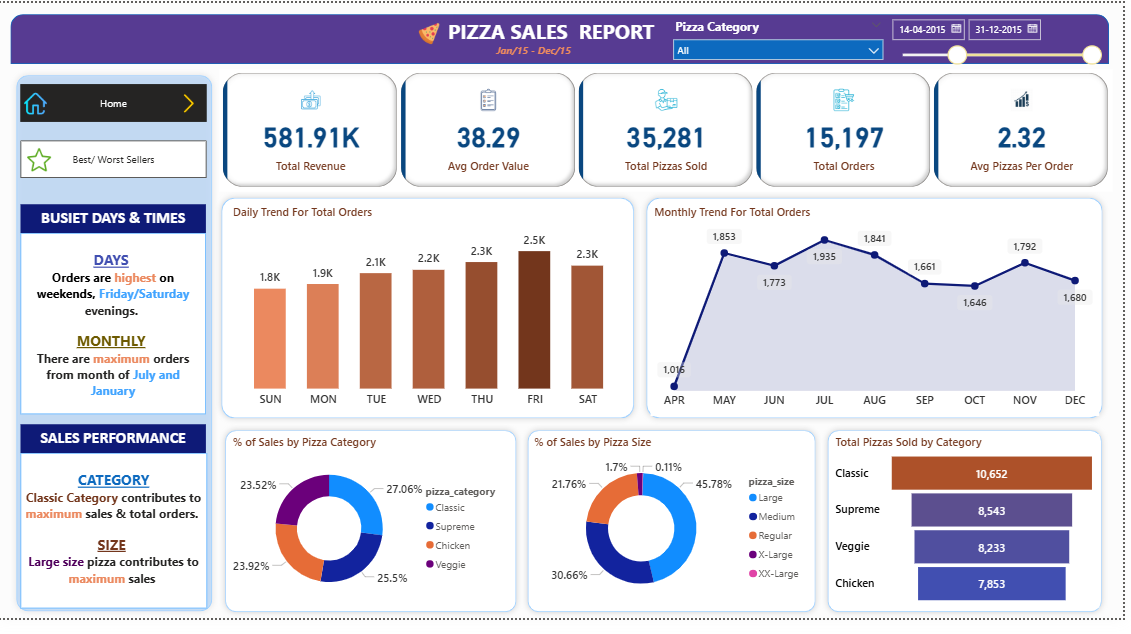

This screenshot's page, from the dashboard's own definition file:
{"tool":"powerbi","page":{"name":"Home","canvas":[1500,820],"ordinal":0},"visuals":[{"type":"shape","box":[17.1,88.6,277.1,731.4],"z":0},{"type":"cardVisual","fields":{"Data":["pizza_sales.Total Revenue","pizza_sales.Avg Order Value","pizza_sales.Total Pizzas Sold","pizza_sales.Total Orders","pizza_sales.Avg Pizzas Per Order"]},"box":[294.3,88.6,1191.4,162.9],"z":1000},{"type":"shape","box":[16.7,15,1465,66.7],"z":2000},{"type":"textbox","box":[575,15,325,51.7],"z":3000},{"type":"textbox","box":[648.3,48.3,131.7,40],"z":4000},{"type":"image","box":[551.7,21.7,46.7,38.3],"z":5000},{"type":"shape","box":[290,252,566,310],"z":6000},{"type":"columnChart","title":"Daily Trend For Total Orders","fields":{"Category":["pizza_sales.Order Day"],"Y":["pizza_sales.Total Orders"]},"box":[308,268,534,280],"z":7000},{"type":"shape","box":[856,252,624,310],"z":8000},{"type":"areaChart","title":"Monthly Trend For Total Orders","fields":{"Y":["pizza_sales.Total Orders"],"Category":["pizza_sales.Order Month"]},"box":[870,268,598,282],"z":9000},{"type":"shape","box":[294.3,561.4,404.3,258.6],"z":10000},{"type":"shape","box":[698.6,561.4,400,258.6],"z":11000},{"type":"shape","box":[1098.6,561.4,381.4,258.6],"z":12000},{"type":"donutChart","title":"% of Sales by Pizza Category","fields":{"Category":["pizza_sales.pizza_category"],"Y":["pizza_sales.Total Revenue"]},"box":[308.6,575.7,375.7,231.4],"z":13000},{"type":"donutChart","title":"% of Sales by Pizza Size","fields":{"Y":["pizza_sales.Total Revenue"],"Category":["pizza_sales.pizza_size"]},"box":[710,575.7,375.7,231.4],"z":14000},{"type":"funnel","title":"Total Pizzas Sold by Category","fields":{"Category":["pizza_sales.pizza_category"],"Y":["pizza_sales.Total Pizzas Sold"]},"box":[1111.4,575.7,357.1,231.4],"z":15000},{"type":"textbox","box":[30,268.6,247.1,38.6],"z":16000},{"type":"textbox","box":[30,307.1,247.1,241.4],"z":17000},{"type":"textbox","box":[30,561.4,247.1,38.6],"z":18000},{"type":"textbox","box":[30,600,248.6,207.1],"z":19000},{"type":"slicer","fields":{"Values":["pizza_sales.pizza_category"]},"box":[890,15.7,300,61.4],"z":20000},{"type":"slicer","fields":{"Values":["pizza_sales.order_date"]},"box":[1180,11.4,300,81.4],"z":21000},{"type":"pageNavigator","box":[30,108.6,248.6,50],"z":22000},{"type":"pageNavigator","box":[30,182.9,248.6,50],"z":22001},{"type":"image","box":[231.4,117.1,45.7,34.3],"z":22002},{"type":"image","box":[30,111.4,40,44.3],"z":22003},{"type":"image","box":[30,188.6,50,41.4],"z":22004}]}

Visuals, with their boxes in screenshot pixels (x1, y1, x2, y2), scaled from the page's 1500x820 canvas onto the 1131x634 screenshot:
shape: (13,69,222,633)
cardVisual - pizza_sales.Total Revenue x pizza_sales.Avg Order Value: (222,69,1120,194)
shape: (13,12,1117,63)
textbox: (434,12,679,52)
textbox: (489,37,588,68)
image: (416,17,451,46)
shape: (219,195,645,435)
"Daily Trend For Total Orders" columnChart: (232,207,635,424)
shape: (645,195,1116,435)
"Monthly Trend For Total Orders" areaChart: (656,207,1107,425)
shape: (222,434,527,633)
shape: (527,434,828,633)
shape: (828,434,1116,633)
"% of Sales by Pizza Category" donutChart: (233,445,516,624)
"% of Sales by Pizza Size" donutChart: (535,445,819,624)
"Total Pizzas Sold by Category" funnel: (838,445,1107,624)
textbox: (23,208,209,238)
textbox: (23,237,209,424)
textbox: (23,434,209,464)
textbox: (23,464,210,624)
slicer - pizza_sales.pizza_category: (671,12,897,60)
slicer - pizza_sales.order_date: (890,9,1116,72)
pageNavigator: (23,84,210,123)
pageNavigator: (23,141,210,180)
image: (174,91,209,117)
image: (23,86,53,120)
image: (23,146,60,178)
